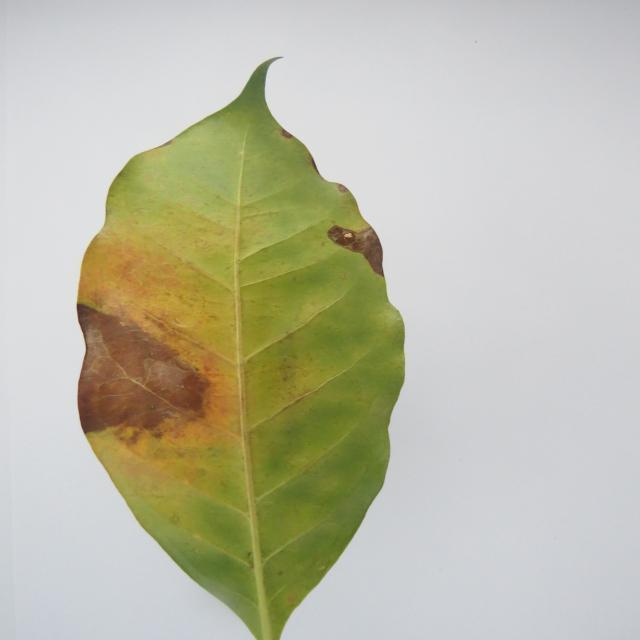DeficienciaNutricional-Fosforo: (78, 60, 403, 640)
